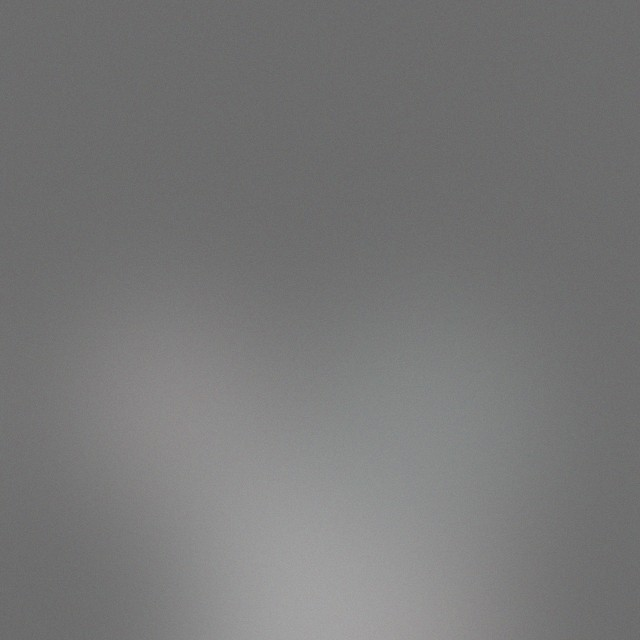smoke: (154, 335, 420, 601)
